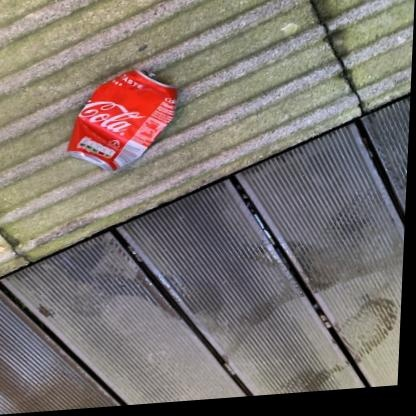trash: (67, 70, 175, 169)
